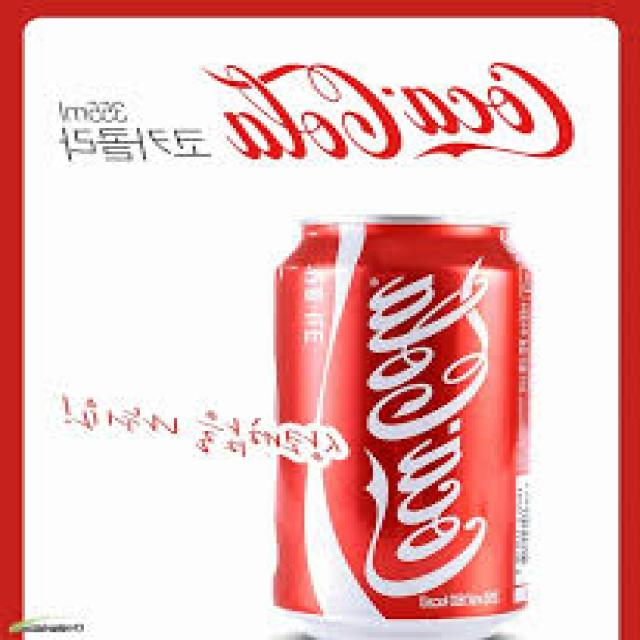Coca-Cola: (264, 206, 546, 640)
